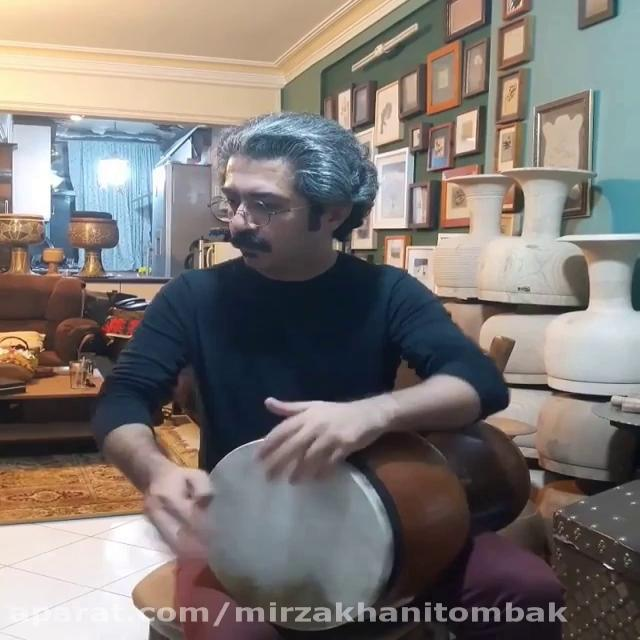Tombak: (158, 422, 552, 615)
